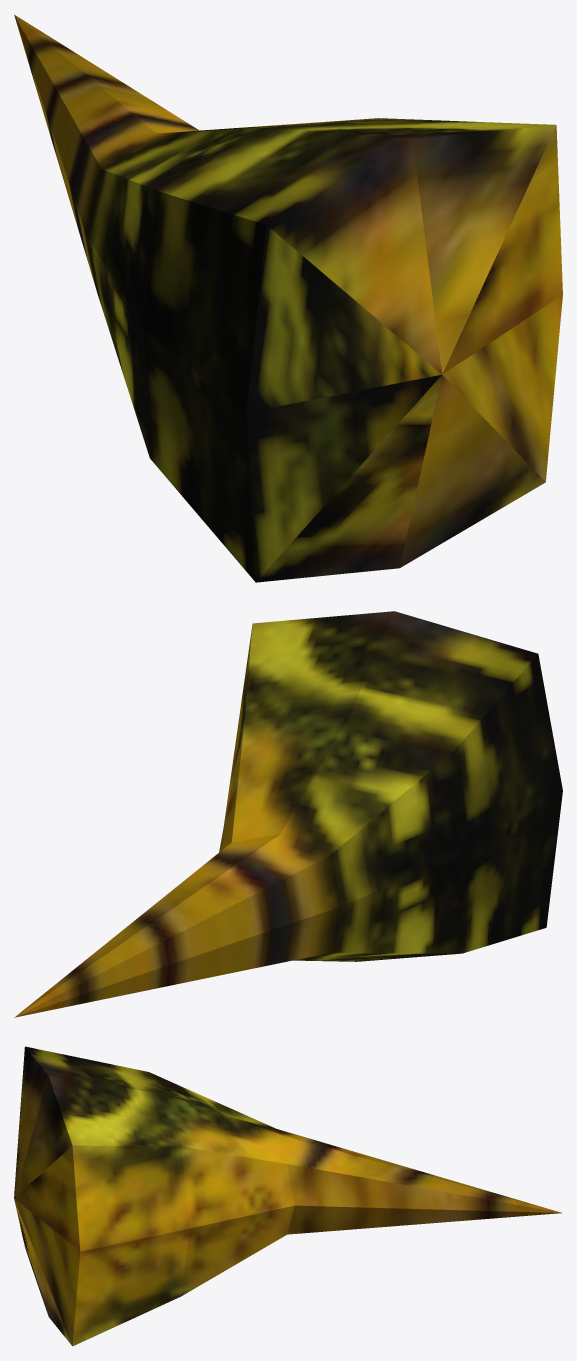
The model's file is vespidstinger.obj.
3 renders of one model, top to bottom at view 1: azimuth 30°, elevation 25°; view 2: azimuth 150°, elevation 25°; view 3: azimuth 270°, elevation 25°, orthographic. The views are drawn at different scales.
Visible parts, largest first — view 1: base; view 2: base; view 3: base.
Part boxes in pixels (left/top/right/bottom): base: left=14, top=14, right=562, bottom=582; base: left=14, top=611, right=562, bottom=1017; base: left=14, top=1046, right=561, bottom=1346.
Bounding box in the file's own units: 0.3769 × 0.4137 × 0.8414.
